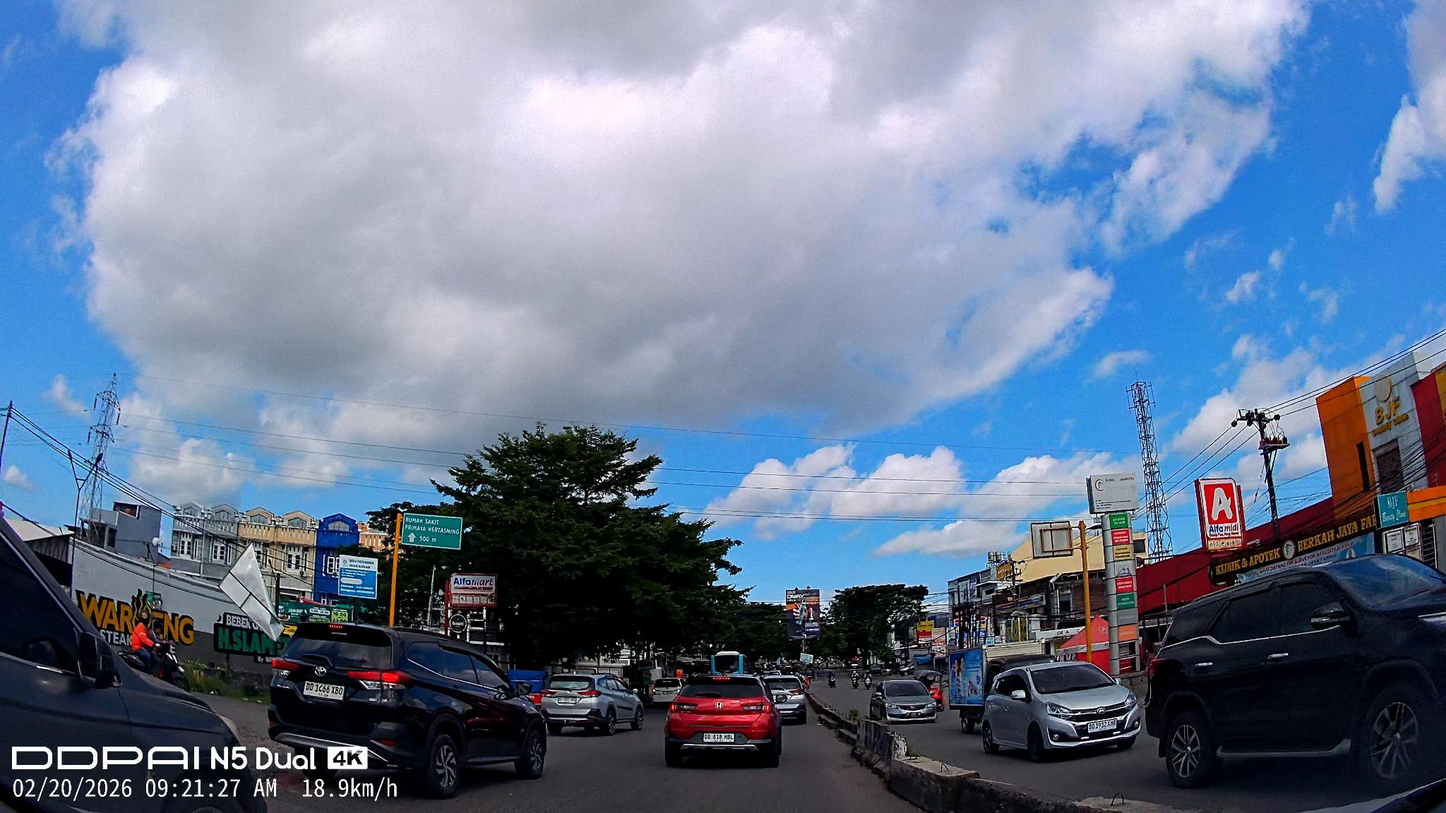rambu_teks: (401, 512, 464, 550)
